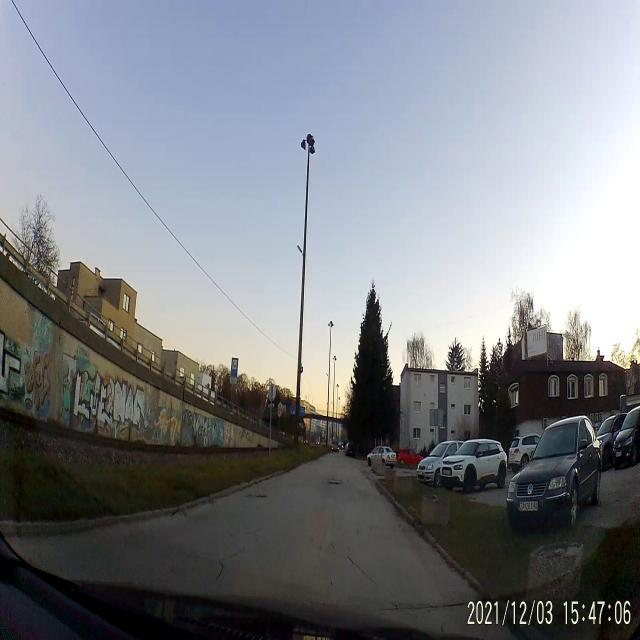Pothole: (248, 492, 268, 504), (328, 478, 340, 486)
